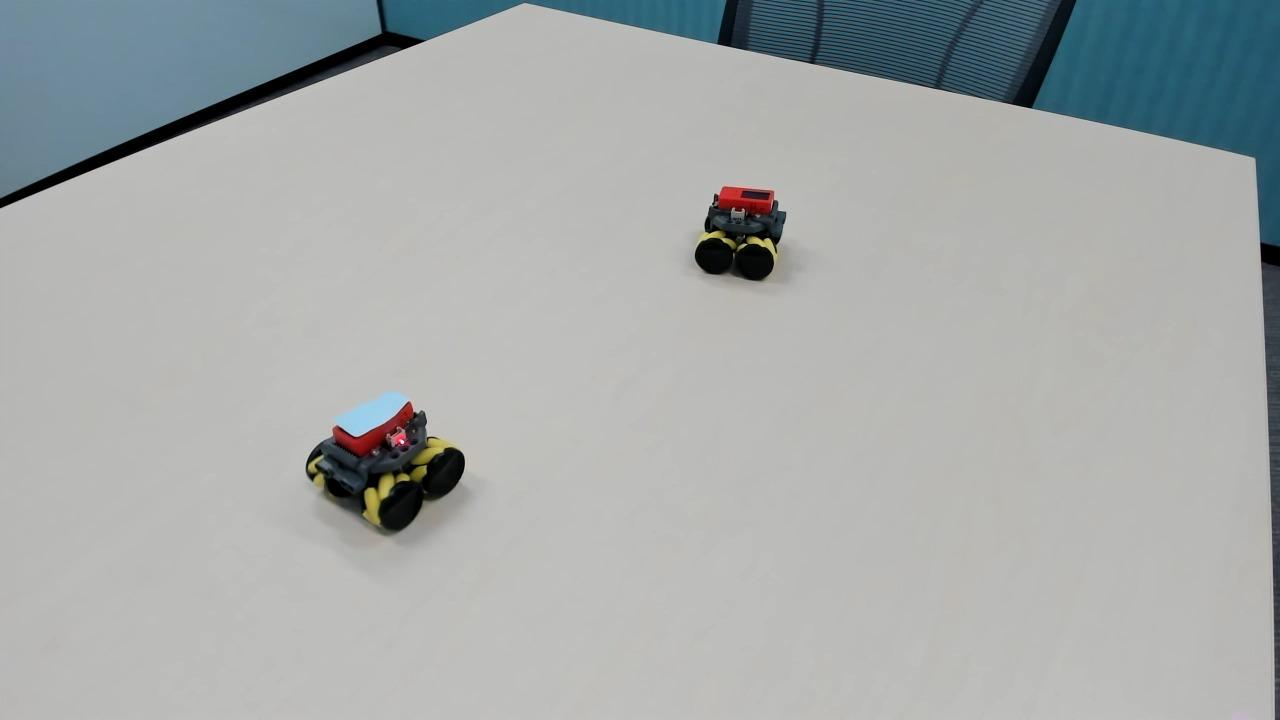B-Robot: (284, 381, 478, 540)
R-Robot: (685, 173, 805, 289)
